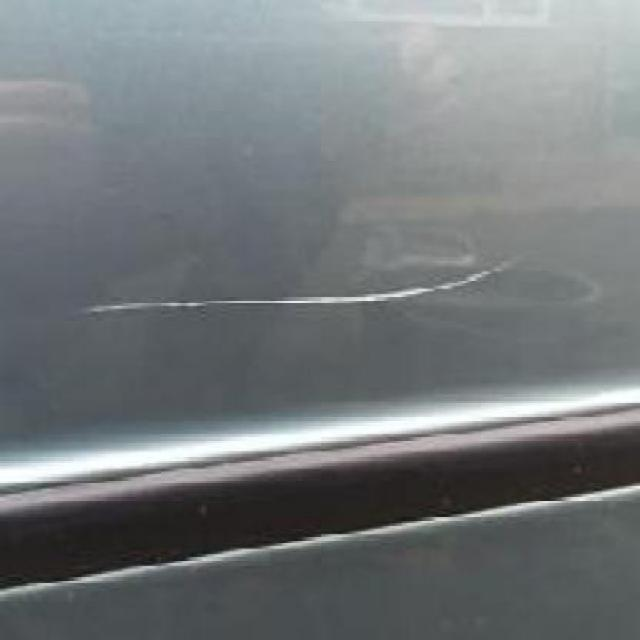dent-or-scratch: (89, 260, 514, 320)
